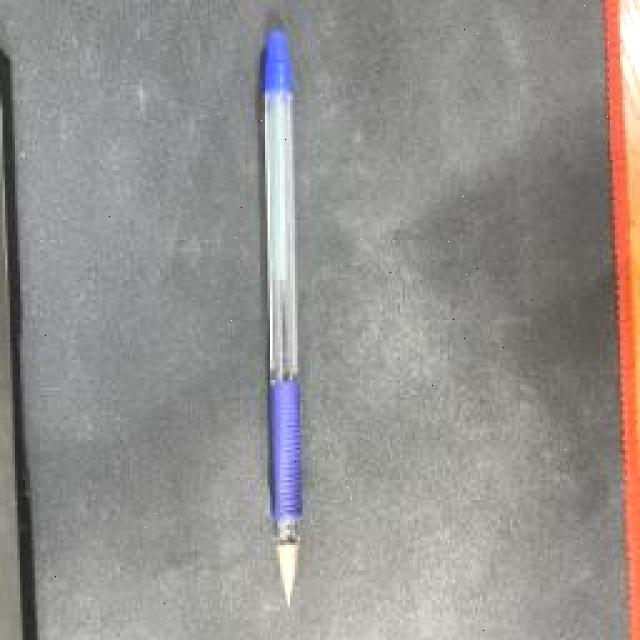pen: (262, 32, 306, 608)
